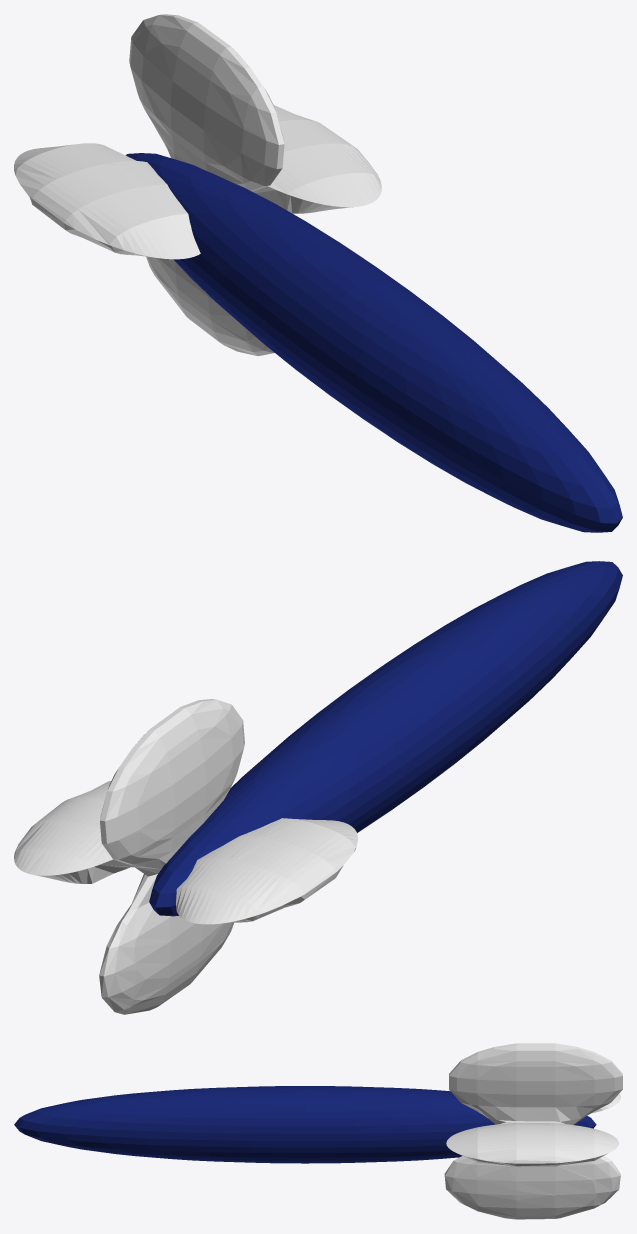
The model's file is missileBasic2.fbx.
3 views of the same model, one above another, from view 1: azimuth 30°, elevation 25°; view 2: azimuth 150°, elevation 25°; view 3: azimuth 270°, elevation 25° (orthographic). The views are drawn at different scales.
Parts seen in each view (by area): view 1: Sphere, Mball; view 2: Sphere, Mball; view 3: Sphere, Mball.
Boxes of the visible parts, box(x1,y1,x2,y2) form: Sphere: box(126, 153, 622, 532); Mball: box(14, 14, 381, 356); Sphere: box(149, 561, 622, 916); Mball: box(14, 699, 357, 1014); Sphere: box(14, 1086, 596, 1163); Mball: box(444, 1043, 622, 1219).
Size of the model in its own units: 10.39 by 9.96 by 31.36.
